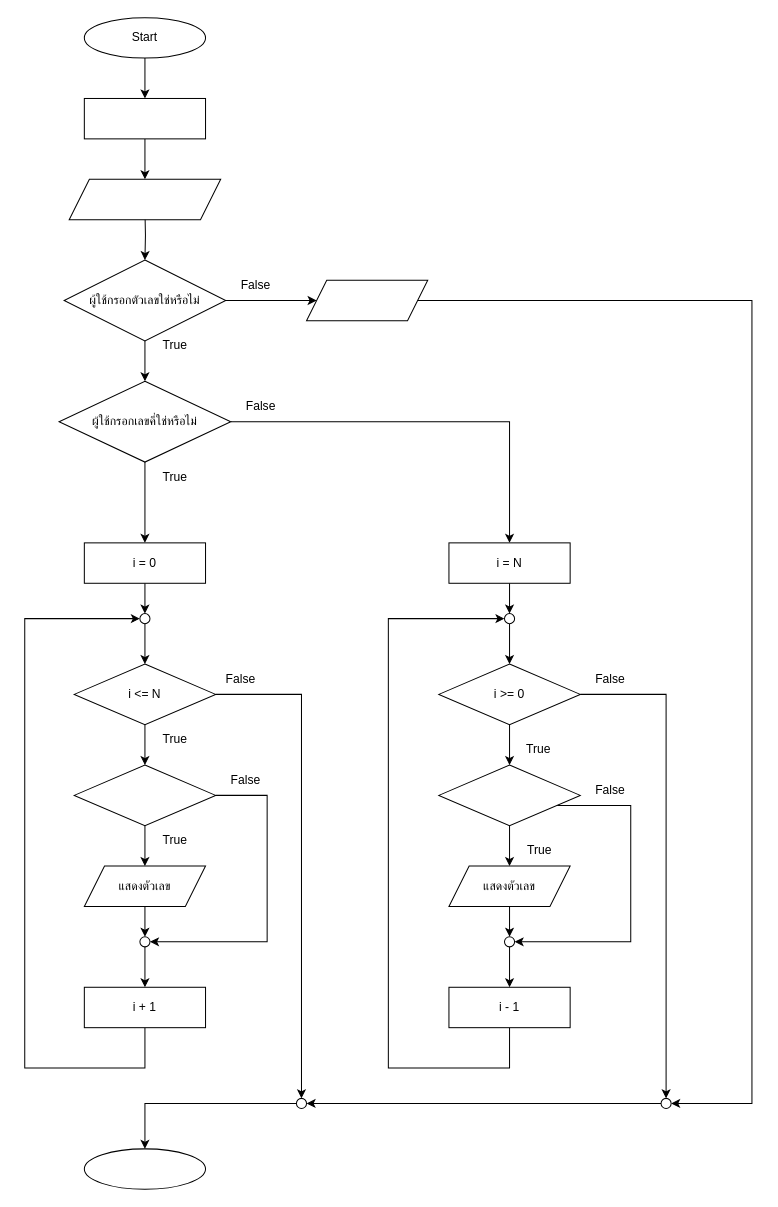
This 778x1207 diagram has some shape labels left out. Each missing label, with the centre of its shape:
"End" belongs at (144,1168).
"i % 2 = 0" belongs at (509,795).
"i % 2 =1" belongs at (144,795).
"N=0" belongs at (144,118).
"รับค่าตัวเลขจากผู้ใช้" belongs at (144,199).
"ให้กรอกแค่ตัวเลข" belongs at (367,300).
